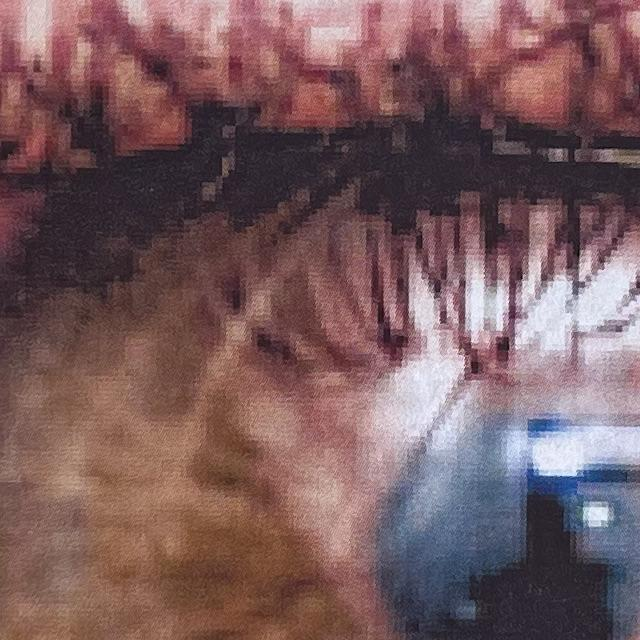eye: (0, 69, 640, 640)
iris: (0, 119, 640, 640)
